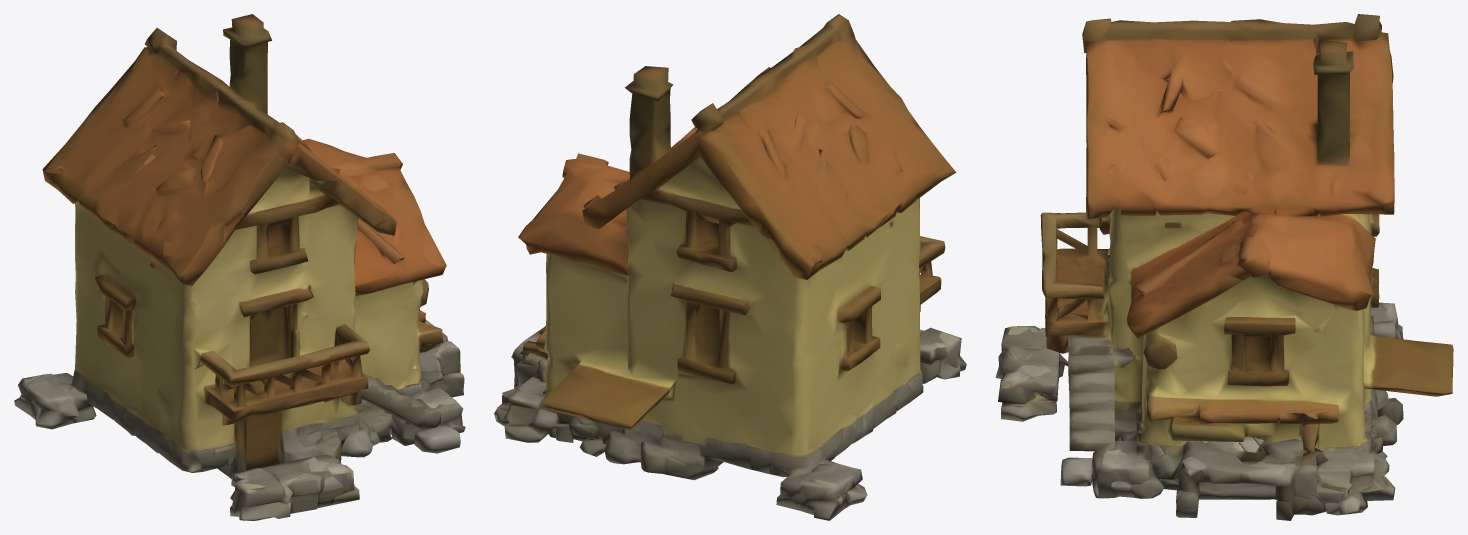
Rendered from tripo_riverside_house.glb.
3 renders of one model, left to right at view 1: azimuth 30°, elevation 25°; view 2: azimuth 150°, elevation 25°; view 3: azimuth 270°, elevation 25°, orthographic. The views are drawn at different scales.
Visible parts, largest first — view 1: riverside_house; view 2: riverside_house; view 3: riverside_house.
Part boxes in pixels (<box>): riverside_house: <box>14,14,465,520</box>; riverside_house: <box>494,14,966,520</box>; riverside_house: <box>995,14,1453,520</box>.
Size of the model in its own units: 9.49 by 9 by 9.45.
1 material, 1 textured.
